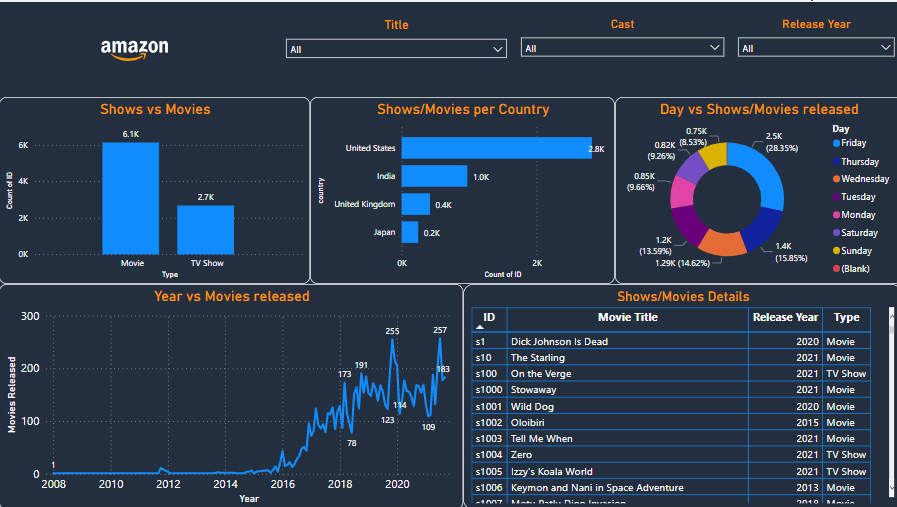

This screenshot's page, from the dashboard's own definition file:
{"tool":"powerbi","page":{"name":"Amazon Prime Video","canvas":[1280,720],"ordinal":0},"visuals":[{"type":"slicer","title":"Title","fields":{"Values":["AmazonPrime.title"]},"box":[396.9,21.3,333.1,92.1],"z":0},{"type":"slicer","title":"Release Year","fields":{"Values":["AmazonPrime.date_added.Variation.Date Hierarchy.Year"]},"box":[1037.5,21.3,242.4,92.1],"z":1000},{"type":"slicer","title":"Cast","fields":{"Values":["AmazonPrime.cast"]},"box":[729.9,21.3,307.6,92.1],"z":2000},{"type":"lineChart","title":"Year vs Movies released","fields":{"Category":["AmazonPrime.date_added.Variation.Date Hierarchy.Year","AmazonPrime.date_added.Variation.Date Hierarchy.Quarter","AmazonPrime.date_added.Variation.Date Hierarchy.Month"],"Y":["AmazonPrime.show_id"]},"box":[0,399.7,657.6,320.3],"z":3000},{"type":"columnChart","title":"Shows vs Movies ","fields":{"Category":["AmazonPrime.type"],"Y":["AmazonPrime.show_id"]},"box":[0,134.6,440.8,265],"z":4000},{"type":"barChart","title":"Shows/Movies  per Country","fields":{"Category":["AmazonPrime.country"],"Y":["AmazonPrime.show_id"]},"box":[440.8,134.6,432.3,265],"z":5000},{"type":"donutChart","title":"Day vs Shows/Movies  released","fields":{"Category":["AmazonPrime.Day"],"Y":["AmazonPrime.show_id"]},"box":[873.1,134.6,406.8,265],"z":6000},{"type":"tableEx","title":"Shows/Movies Details","fields":{"Values":["AmazonPrime.show_id","AmazonPrime.title","AmazonPrime.release_year","AmazonPrime.type"]},"box":[657.6,399.7,622.2,320.3],"z":7000},{"type":"image","box":[124.7,0,134.6,134.6],"z":8000}]}

Visuals, with their boxes in screenshot pixels (x1, y1, x2, y2), scaled from the page's 1280x720 canvas onto the 897x507 screenshot:
"Title" slicer: bbox(278, 15, 512, 80)
"Release Year" slicer: bbox(727, 15, 896, 80)
"Cast" slicer: bbox(512, 15, 727, 80)
"Year vs Movies released" lineChart: bbox(0, 281, 461, 506)
"Shows vs Movies " columnChart: bbox(0, 95, 309, 281)
"Shows/Movies  per Country" barChart: bbox(309, 95, 612, 281)
"Day vs Shows/Movies  released" donutChart: bbox(612, 95, 896, 281)
"Shows/Movies Details" tableEx: bbox(461, 281, 896, 506)
image: bbox(87, 0, 182, 95)
